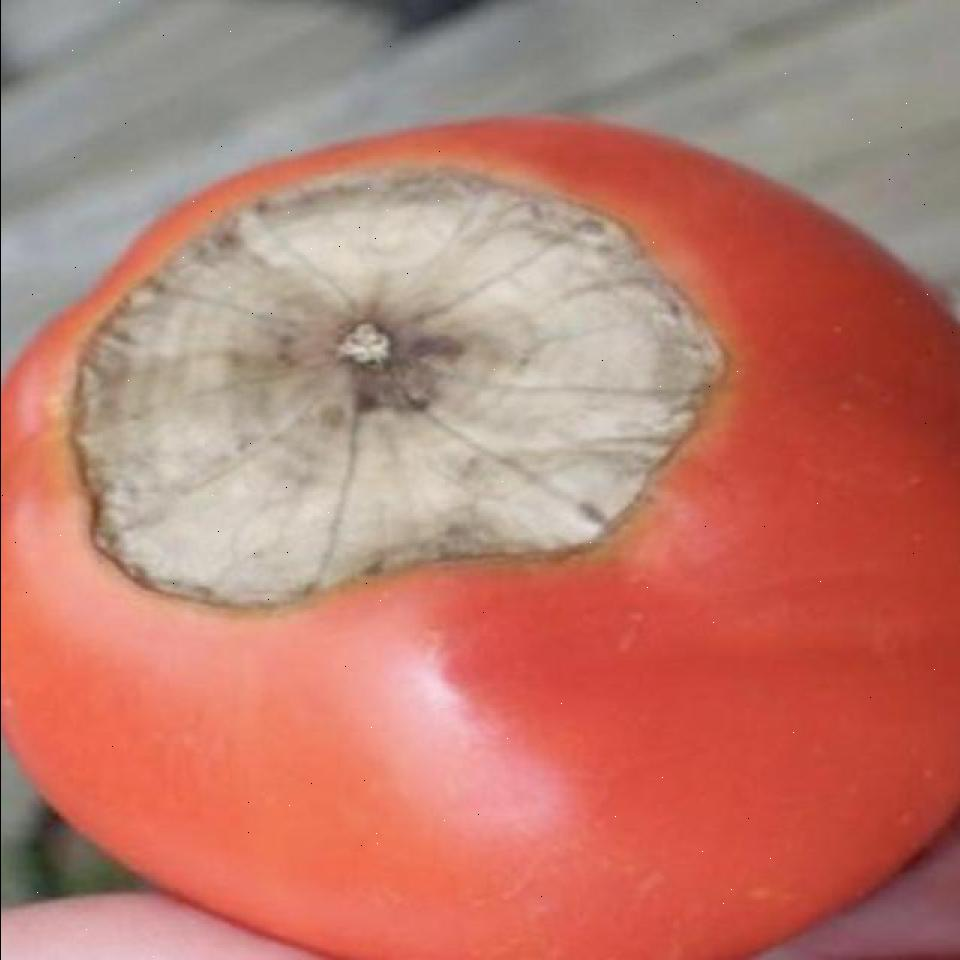Blossom_end_rot: (58, 153, 770, 624)
